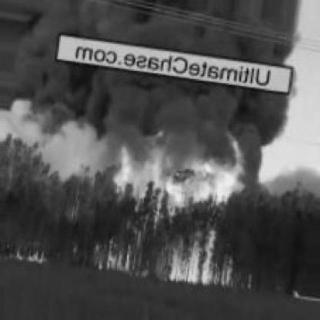Fire: (80, 126, 254, 287), (7, 241, 51, 267)
